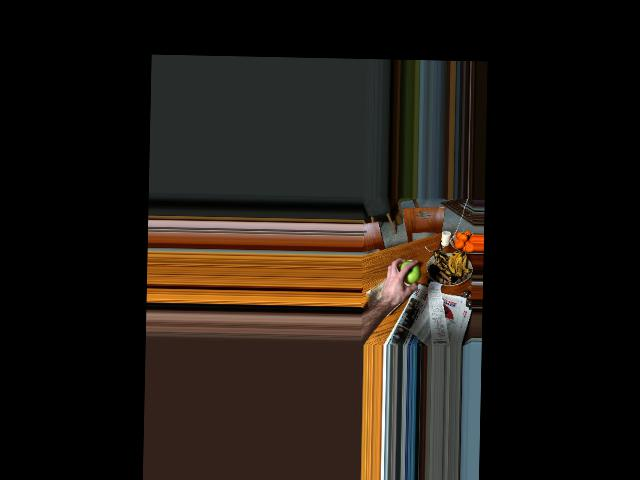apple: (399, 262, 419, 285)
